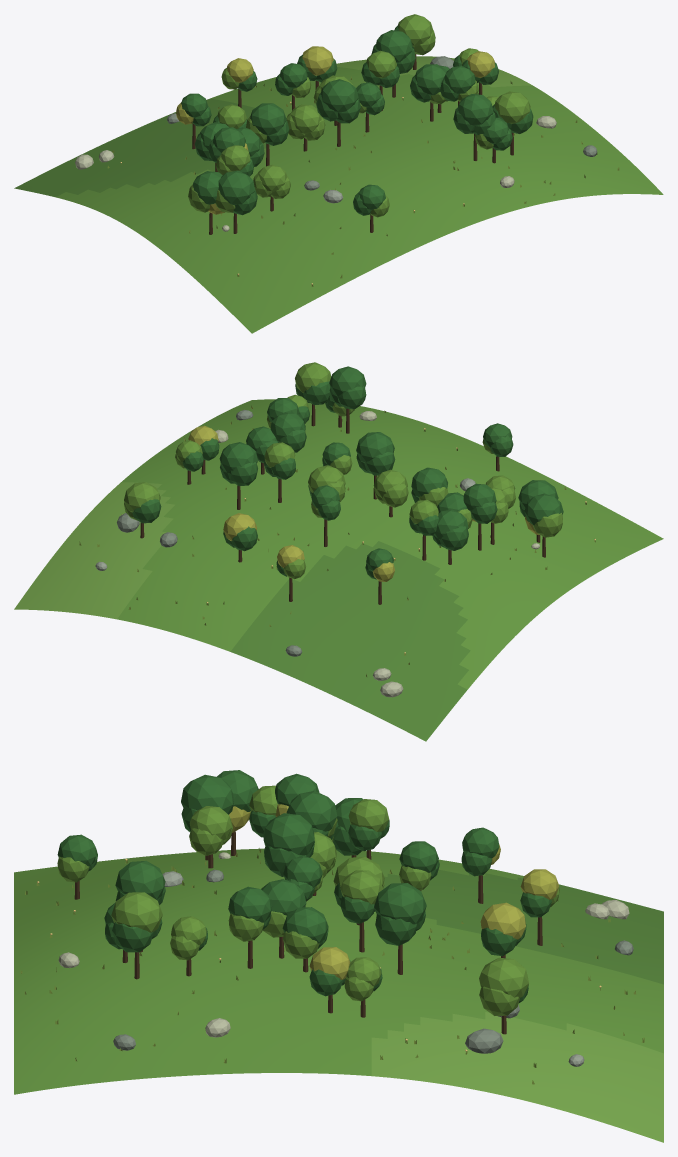
Rendered from Chunk_X2_Y0_Z2.fbx.
3 renders of one model, top to bottom at view 1: azimuth 30°, elevation 25°; view 2: azimuth 150°, elevation 25°; view 3: azimuth 270°, elevation 25°, orthographic. The views are drawn at different scales.
Visible parts, largest first — view 1: Terrain.040, Canopies.039, Rocks.040, Trunks.039; view 2: Terrain.040, Canopies.039, Rocks.040, Trunks.039; view 3: Terrain.040, Canopies.039, Rocks.040, Trunks.039, GroundCover.040.
Boxes of the visible parts, box(x1,y1,x2,y2) form: Terrain.040: box(14, 56, 663, 333); Canopies.039: box(176, 14, 533, 217); Rocks.040: box(75, 56, 597, 231); Trunks.039: box(192, 54, 513, 234); Terrain.040: box(14, 399, 663, 741); Canopies.039: box(124, 362, 563, 581); Rocks.040: box(95, 409, 539, 697); Trunks.039: box(140, 404, 545, 604); Terrain.040: box(14, 848, 663, 1142); Canopies.039: box(57, 770, 559, 1015); Rocks.040: box(58, 852, 633, 1066); Trunks.039: box(74, 831, 542, 1034); GroundCover.040: box(20, 848, 644, 1084).
Size of the model in its own units: 100 by 38.83 by 100.
